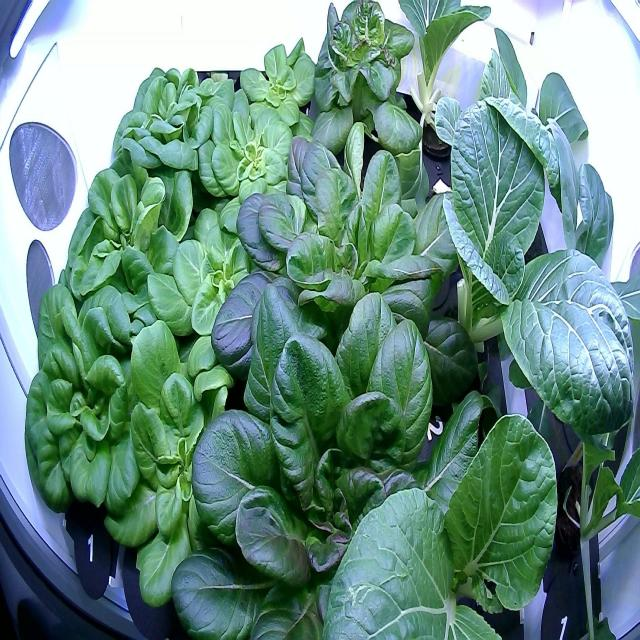Ready: (168, 289, 524, 640), (203, 116, 499, 430), (11, 268, 163, 533), (60, 142, 204, 349), (102, 55, 225, 213)
young: (99, 316, 262, 610), (142, 204, 288, 380), (304, 0, 426, 183), (190, 88, 316, 217), (233, 23, 320, 145)
